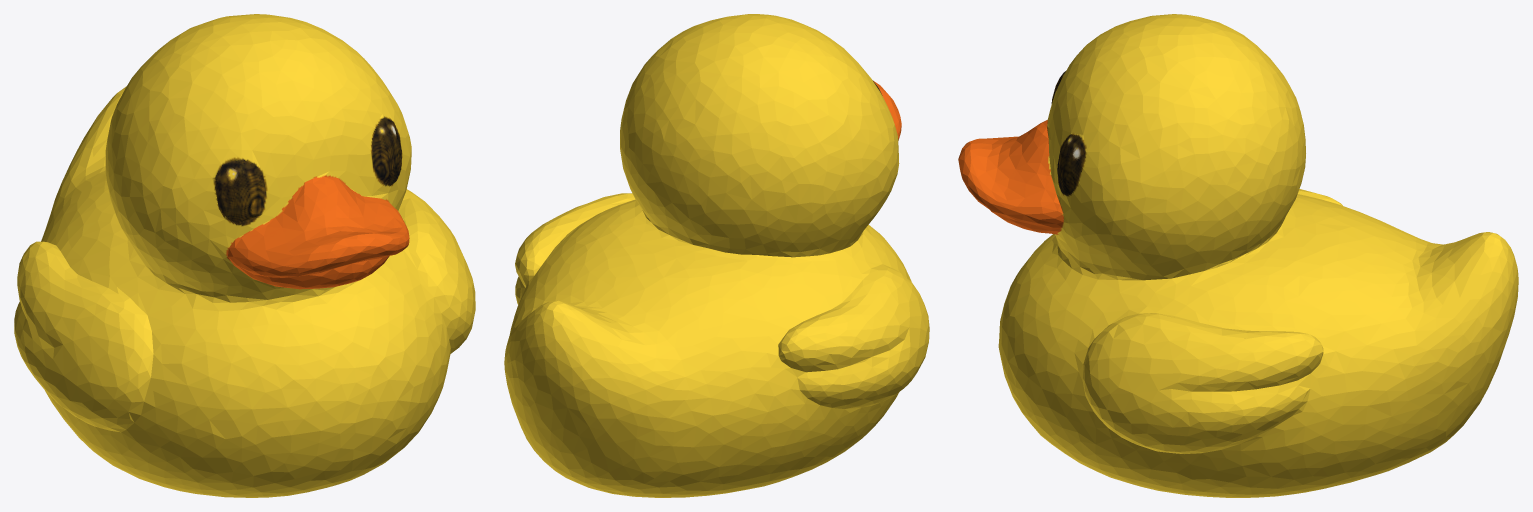
Rendered from duck-reference-colors.glb.
3 renders of one model, left to right at view 1: azimuth 30°, elevation 25°; view 2: azimuth 150°, elevation 25°; view 3: azimuth 270°, elevation 25°, orthographic. The views are drawn at different scales.
Size of the model in its own units: 0.808 by 0.8311 by 1.
Materials: 1 (1 with a texture image).
